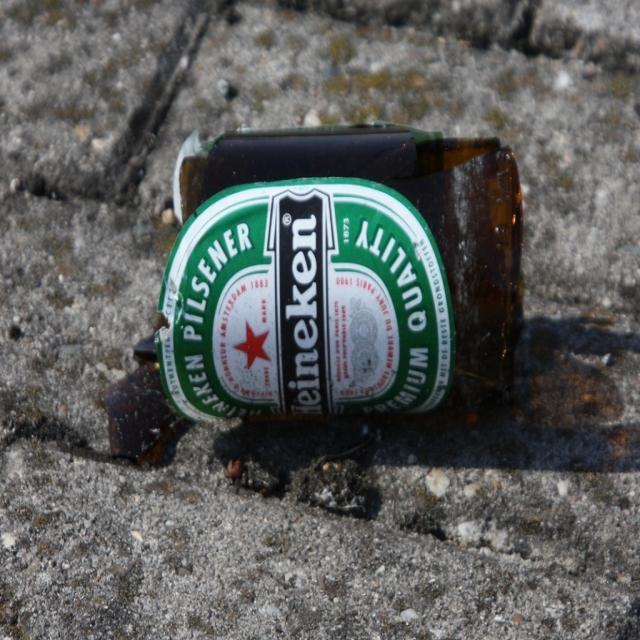heineken: (157, 174, 457, 424)
